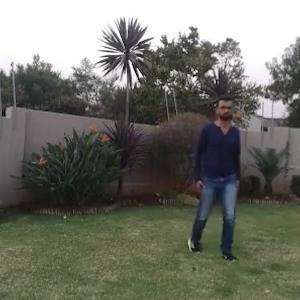follow: (200, 93, 243, 243)
